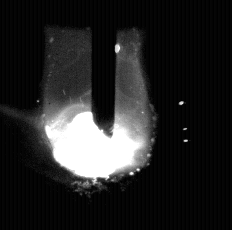arame: (93, 0, 116, 139)
poca: (46, 0, 148, 230)
